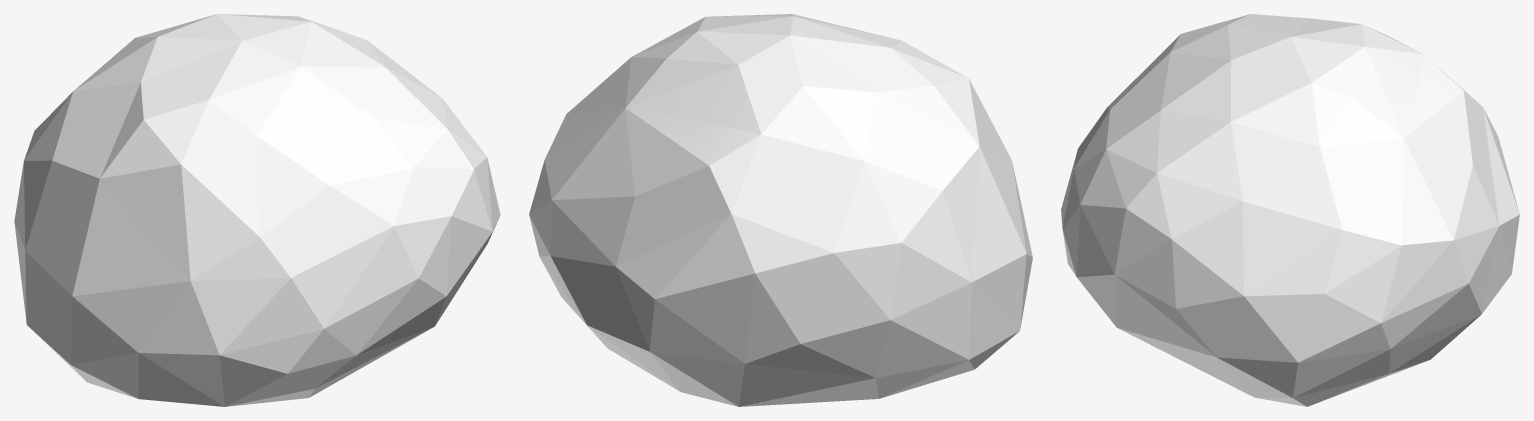
The model's file is SM_Prop_Coral_06.glb.
The picture shows the model from 3 angles, left to right: view 1: azimuth 30°, elevation 25°; view 2: azimuth 150°, elevation 25°; view 3: azimuth 270°, elevation 25°; orthographic projection. The views are drawn at different scales.
Parts seen in each view (by area): view 1: SM_Prop_Coral_06; view 2: SM_Prop_Coral_06; view 3: SM_Prop_Coral_06.
Boxes of the visible parts, x1,y1,x2,y2 form: SM_Prop_Coral_06: (14, 14, 500, 406); SM_Prop_Coral_06: (529, 14, 1032, 406); SM_Prop_Coral_06: (1061, 14, 1519, 406).
Bounding box in the file's own units: 0.3519 × 0.2399 × 0.3327.
1 material, 1 textured.
